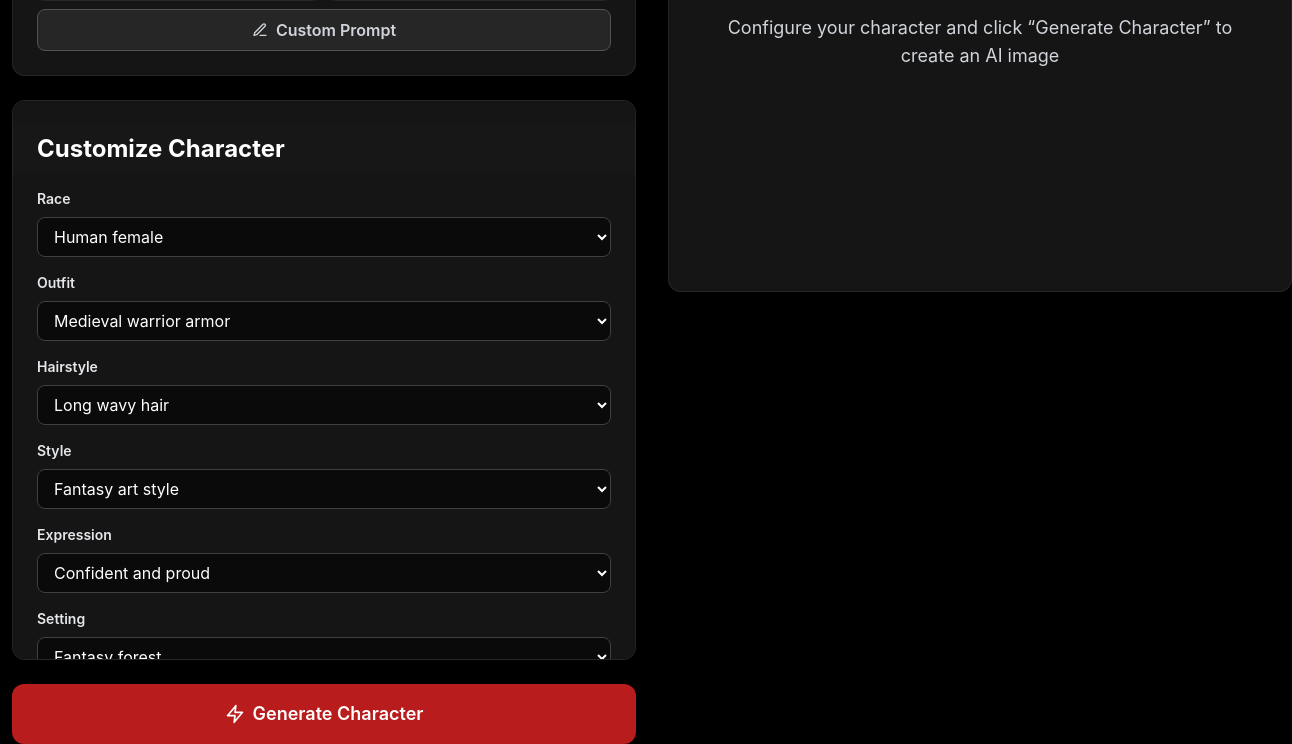
CharacterCustomizer › shows a generic error message when fetch throws
(page scrolled)
Click the button "Generate Character": (324, 714) [12, 684, 636, 743]
(page scrolled)
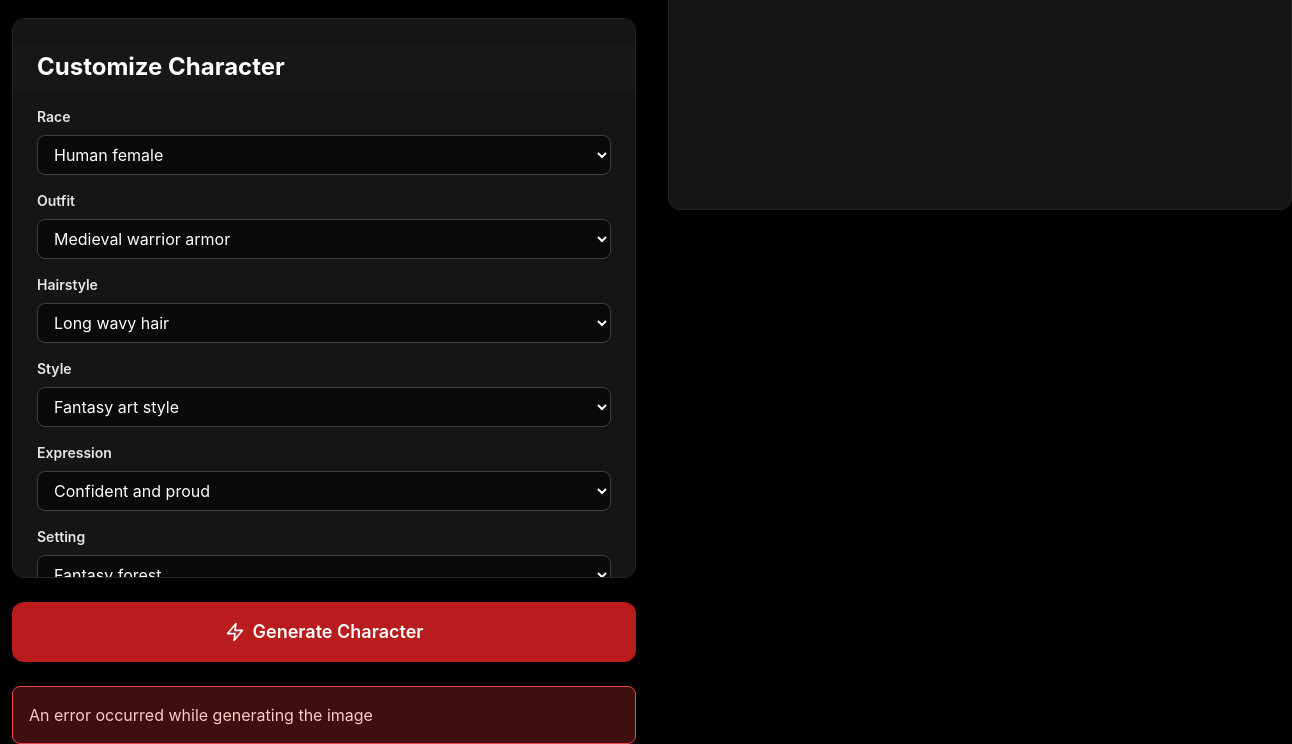
Check: the text "An error occurred while generating the image" is shown, box [12, 686, 636, 743]
